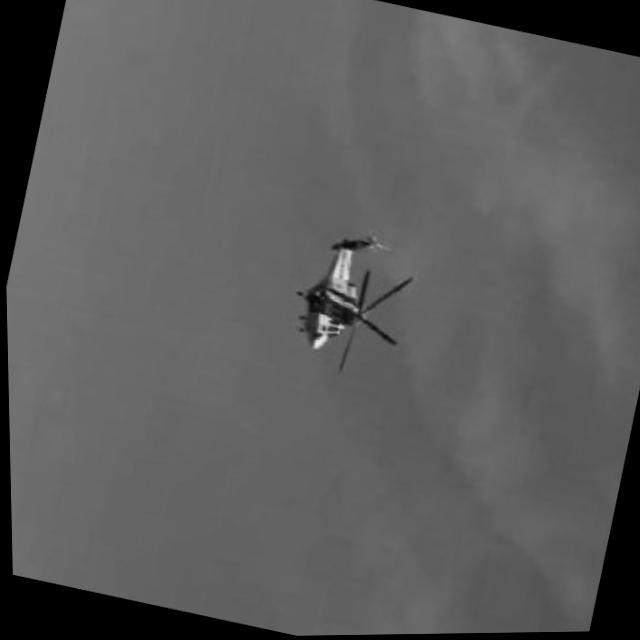helikopter: (277, 221, 423, 387)
